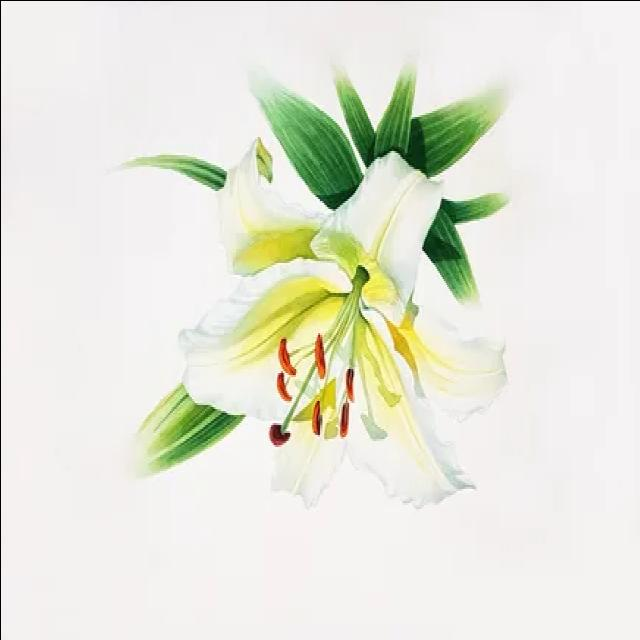lily: (178, 124, 516, 530)
